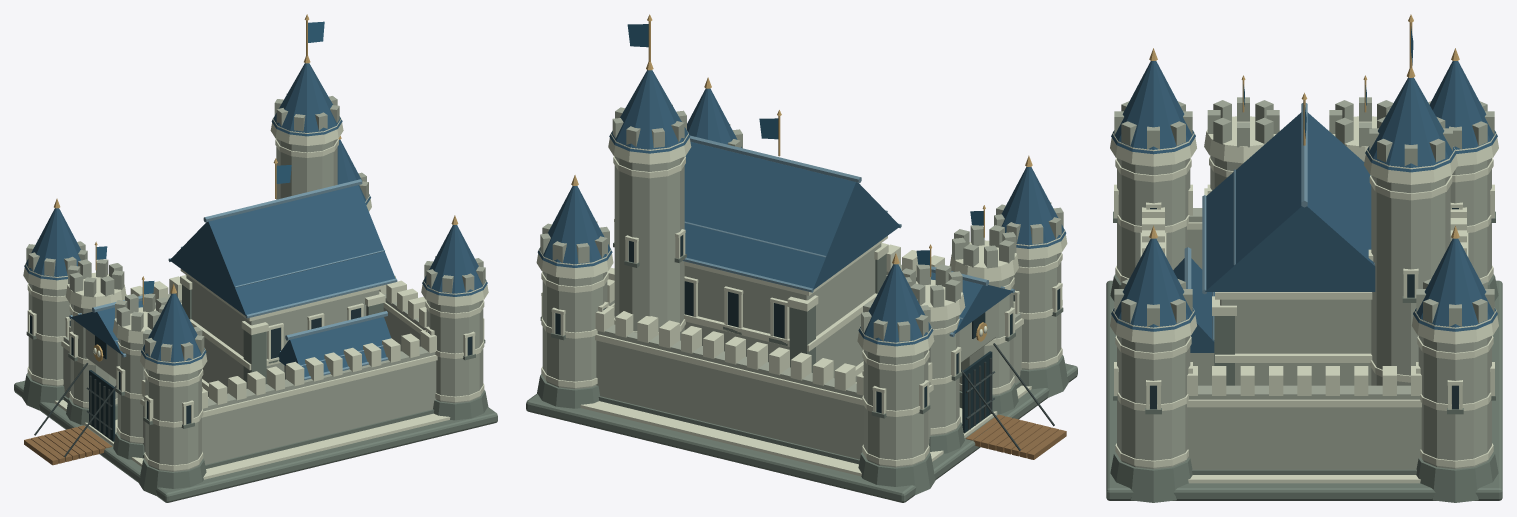
Rendered from royal-castle-v2.glb.
3 views of the same model, side by side, from view 1: azimuth 30°, elevation 25°; view 2: azimuth 150°, elevation 25°; view 3: azimuth 270°, elevation 25° (orthographic). The views are drawn at different scales.
Parts seen in each view (by area): view 1: royal-castle-v2 Warm dressed limestone, royal-castle-v2 Blue slate roof, royal-castle-v2 Carved pale stone, royal-castle-v2 Weathered foundation, royal-castle-v2 Slate ridge caps, royal-castle-v2 Deep window recess, royal-castle-v2 Warm cut timber, royal-castle-v2 Black forged iron, royal-castle-v2 Royal azure cloth, royal-castle-v2 Aged gilded fittings; view 2: royal-castle-v2 Warm dressed limestone, royal-castle-v2 Blue slate roof, royal-castle-v2 Carved pale stone, royal-castle-v2 Weathered foundation, royal-castle-v2 Deep window recess, royal-castle-v2 Warm cut timber, royal-castle-v2 Slate ridge caps, royal-castle-v2 Black forged iron, royal-castle-v2 Royal azure cloth, royal-castle-v2 Aged gilded fittings; view 3: royal-castle-v2 Warm dressed limestone, royal-castle-v2 Blue slate roof, royal-castle-v2 Carved pale stone, royal-castle-v2 Weathered foundation, royal-castle-v2 Slate ridge caps, royal-castle-v2 Aged gilded fittings, royal-castle-v2 Deep window recess.
Part boxes in pixels (x1,y1,x2,y2): royal-castle-v2 Warm dressed limestone: (26, 93, 485, 471); royal-castle-v2 Blue slate roof: (24, 63, 487, 377); royal-castle-v2 Carved pale stone: (23, 116, 488, 479); royal-castle-v2 Weathered foundation: (14, 285, 497, 502); royal-castle-v2 Slate ridge caps: (69, 179, 397, 380); royal-castle-v2 Deep window recess: (30, 308, 472, 441); royal-castle-v2 Warm cut timber: (24, 425, 112, 465); royal-castle-v2 Black forged iron: (34, 363, 116, 457); royal-castle-v2 Royal azure cloth: (96, 21, 324, 294); royal-castle-v2 Aged gilded fittings: (54, 14, 458, 361); royal-castle-v2 Warm dressed limestone: (540, 104, 1063, 467); royal-castle-v2 Blue slate roof: (537, 70, 1066, 346); royal-castle-v2 Carved pale stone: (536, 131, 1067, 476); royal-castle-v2 Weathered foundation: (526, 242, 1077, 502); royal-castle-v2 Deep window recess: (555, 235, 1059, 433); royal-castle-v2 Warm cut timber: (965, 414, 1066, 459); royal-castle-v2 Slate ridge caps: (683, 135, 1014, 336); royal-castle-v2 Black forged iron: (961, 343, 1054, 450); royal-castle-v2 Royal azure cloth: (627, 24, 983, 264); royal-castle-v2 Aged gilded fittings: (571, 14, 1032, 341); royal-castle-v2 Warm dressed limestone: (1114, 97, 1494, 469); royal-castle-v2 Blue slate roof: (1111, 61, 1497, 352); royal-castle-v2 Carved pale stone: (1110, 116, 1498, 483); royal-castle-v2 Weathered foundation: (1106, 211, 1502, 502); royal-castle-v2 Slate ridge caps: (1184, 103, 1374, 340); royal-castle-v2 Aged gilded fittings: (1149, 14, 1459, 238); royal-castle-v2 Deep window recess: (1150, 208, 1458, 409).
Bounding box in the file's own units: 9.81 × 8.23 × 6.7.
